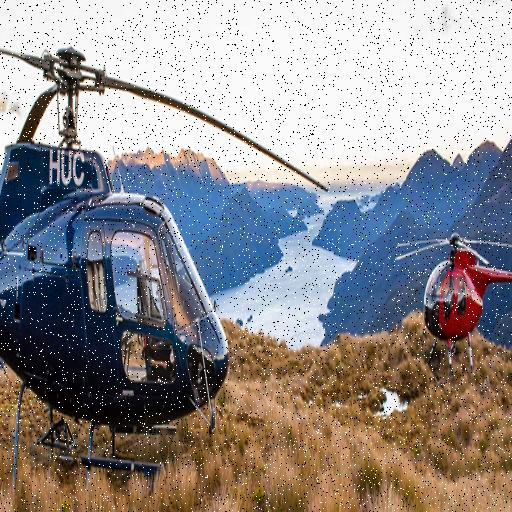helicopter: (1, 1, 245, 512), (390, 172, 512, 394)
